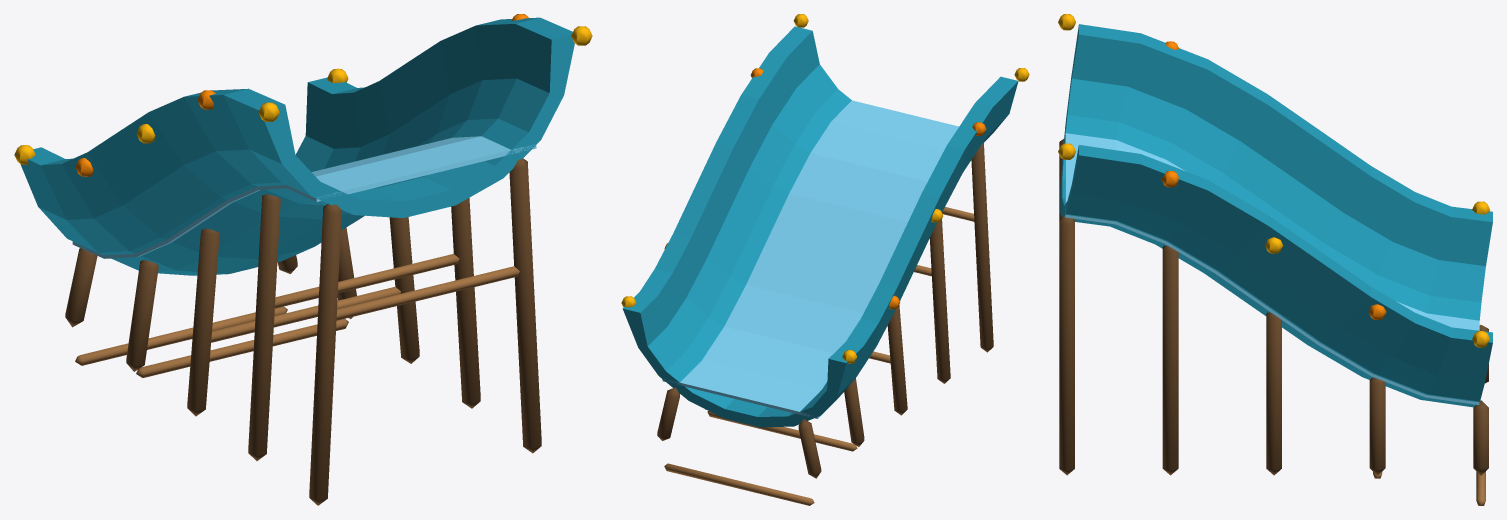
The model's file is W5_Slide_Drop.fbx.
3 views of the same model, side by side, from view 1: azimuth 30°, elevation 25°; view 2: azimuth 150°, elevation 25°; view 3: azimuth 270°, elevation 25° (orthographic). The views are drawn at different scales.
Parts seen in each view (by area): view 1: W5_Slide_Drop; view 2: W5_Slide_Drop; view 3: W5_Slide_Drop.
Boxes of the visible parts, x1,y1,x2,y2 form: W5_Slide_Drop: [14, 14, 592, 505]; W5_Slide_Drop: [621, 14, 1029, 505]; W5_Slide_Drop: [1058, 14, 1492, 505].
Bounding box in the file's own units: 7.78 × 10.27 × 10.51.
